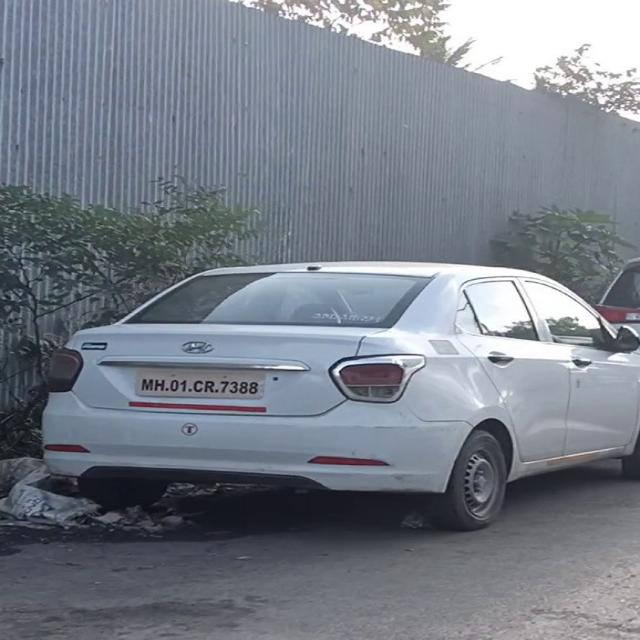Plate: (135, 367, 263, 399)
